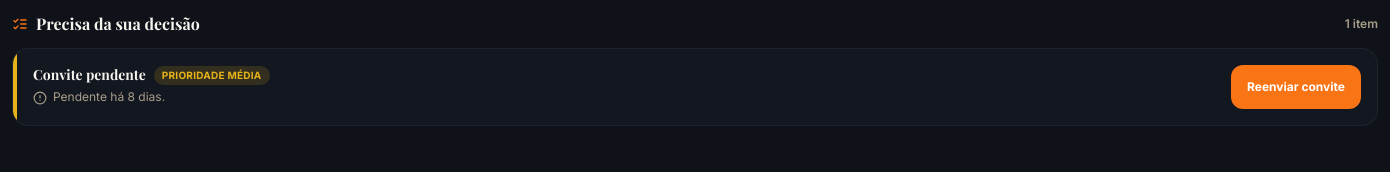
DecisionQueue com ações que alteram dados › trata runner que lança como falha técnica, não como sucesso
The width and height of the screenshot is (1390, 172).
Click the button with test id "decision-mutation-button" at coordinates (1296, 87), box [1231,65,1361,109]
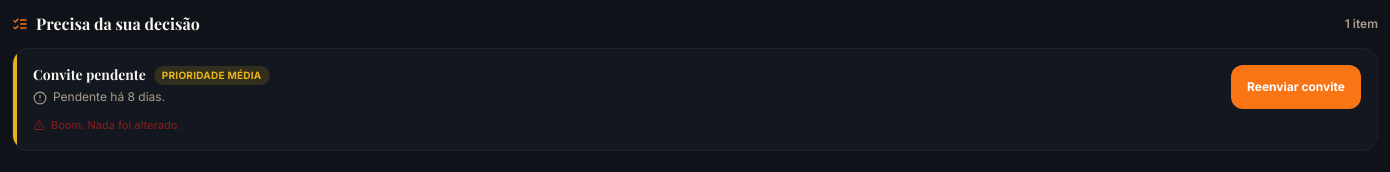
Expected: the message with test id "decision-outcome-failed" shows "Nada foi alterado", [51,118,181,132]
